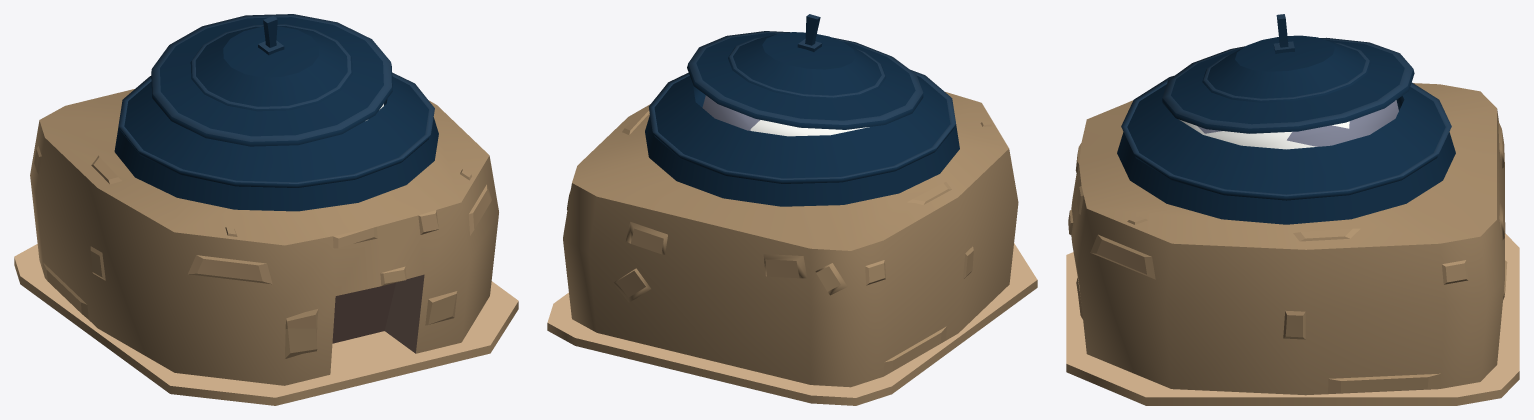
File: Gamasot_Clay01.fbx
3 views of the same model, side by side, from view 1: azimuth 30°, elevation 25°; view 2: azimuth 150°, elevation 25°; view 3: azimuth 270°, elevation 25° (orthographic). The views are drawn at different scales.
Parts seen in each view (by area): view 1: Gamasot_Clay; view 2: Gamasot_Clay; view 3: Gamasot_Clay.
Boxes of the visible parts, bbox=[...] form: Gamasot_Clay: bbox=[14, 14, 518, 405]; Gamasot_Clay: bbox=[547, 14, 1037, 405]; Gamasot_Clay: bbox=[1066, 14, 1519, 405].
Size of the model in its own units: 267 by 206 by 284.
